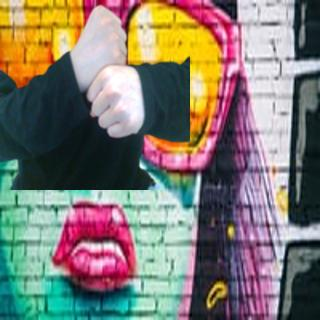CAREFUL: (68, 1, 146, 146)
